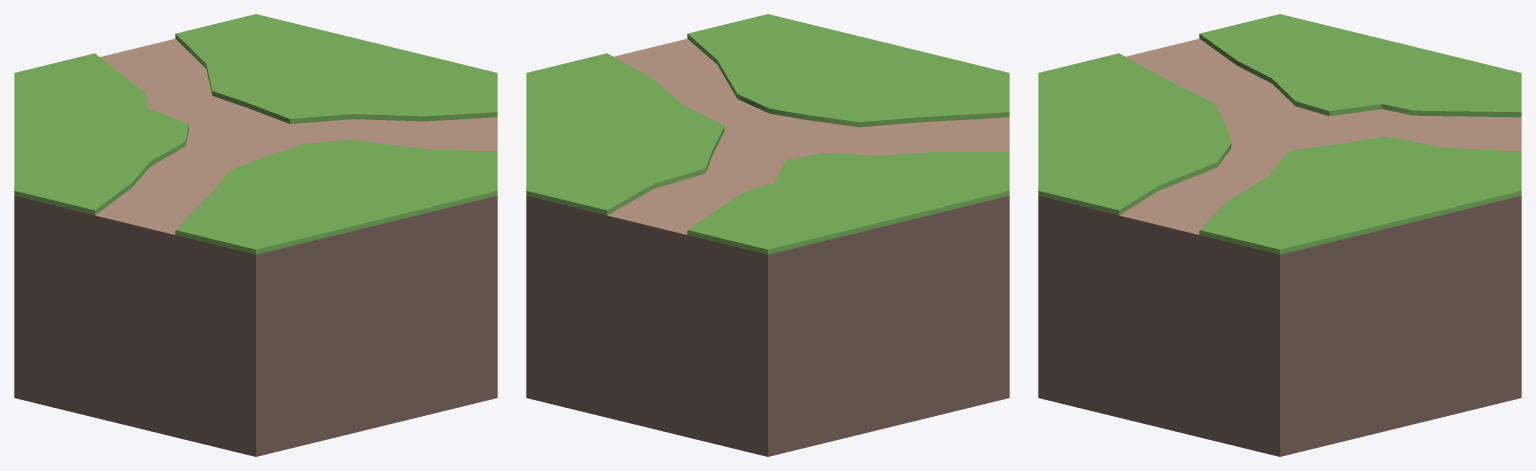
File: Tile_road10.fbx
3 views of the same model, side by side, from view 1: azimuth 30°, elevation 25°; view 2: azimuth 150°, elevation 25°; view 3: azimuth 270°, elevation 25° (orthographic).
Visible parts, largest first — view 1: Tile_Road2; view 2: Tile_Road2; view 3: Tile_Road2.
Boxes of the visible parts, box(x1,y1,x2,y2) form: Tile_Road2: box(14, 14, 497, 456); Tile_Road2: box(526, 14, 1009, 456); Tile_Road2: box(1038, 14, 1521, 456).
Bounding box in the file's own units: 2 × 0.82 × 1.73.
